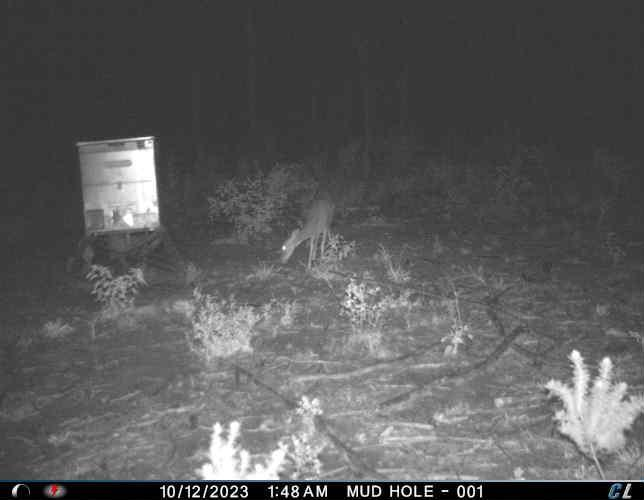Deer: (276, 195, 338, 276)
